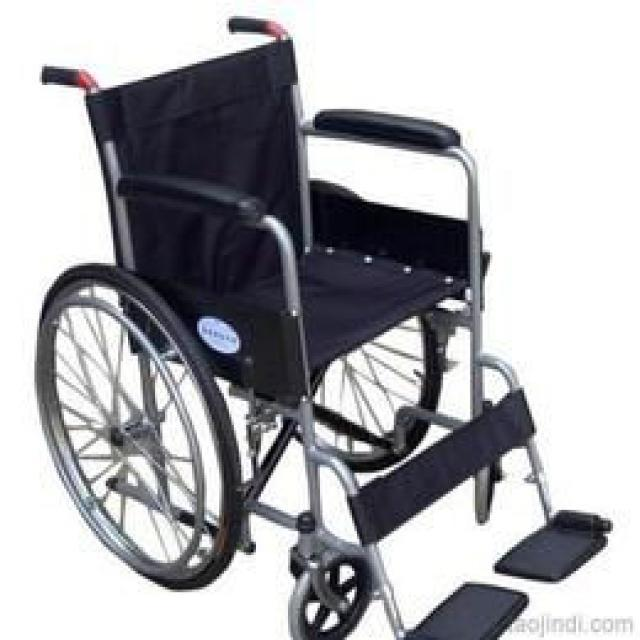wheelchair: (29, 8, 613, 638)
